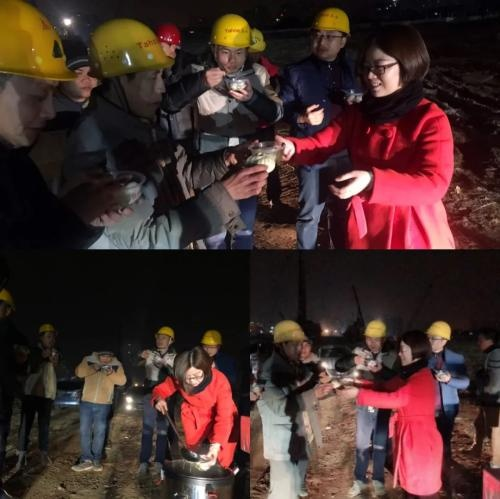none: (359, 21, 432, 100), (58, 38, 99, 99), (173, 346, 210, 391), (394, 328, 431, 367), (475, 325, 497, 354)
red: (153, 20, 183, 57)
yellow: (1, 1, 63, 147), (88, 17, 171, 115), (207, 13, 256, 72), (309, 8, 351, 61), (273, 319, 306, 359), (363, 317, 389, 352), (428, 319, 452, 351), (199, 328, 224, 358), (153, 324, 176, 350), (36, 322, 58, 349)
